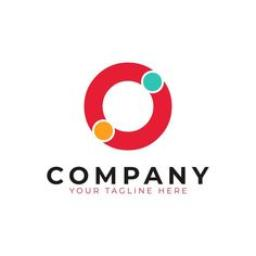o: (74, 49, 180, 155)
